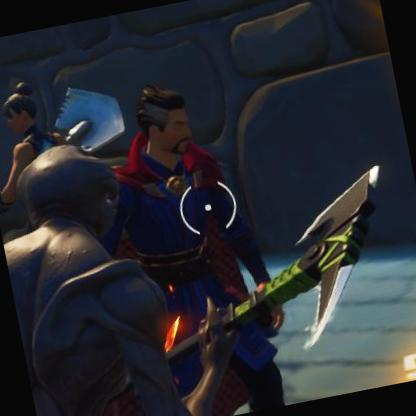person: (105, 86, 291, 413), (7, 84, 59, 148)
